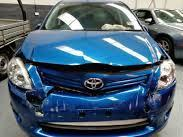dent: (6, 57, 178, 136), (18, 29, 173, 72)
